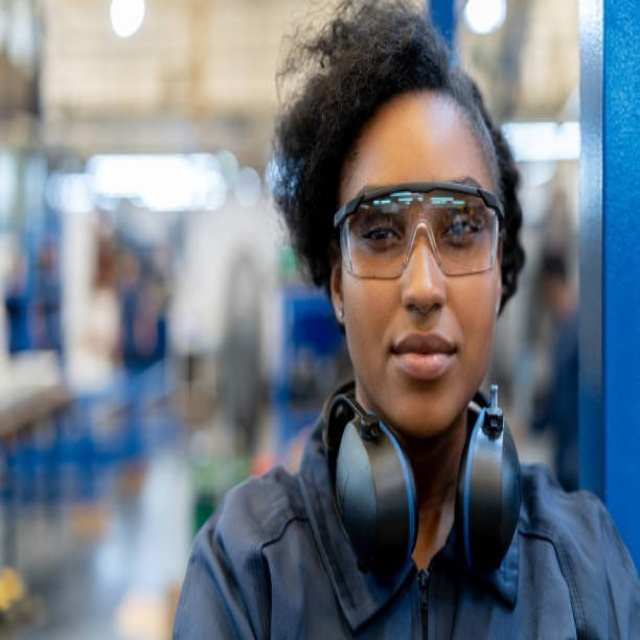Gafas: (333, 185, 504, 280)
Sin_mascara: (379, 311, 463, 402)
